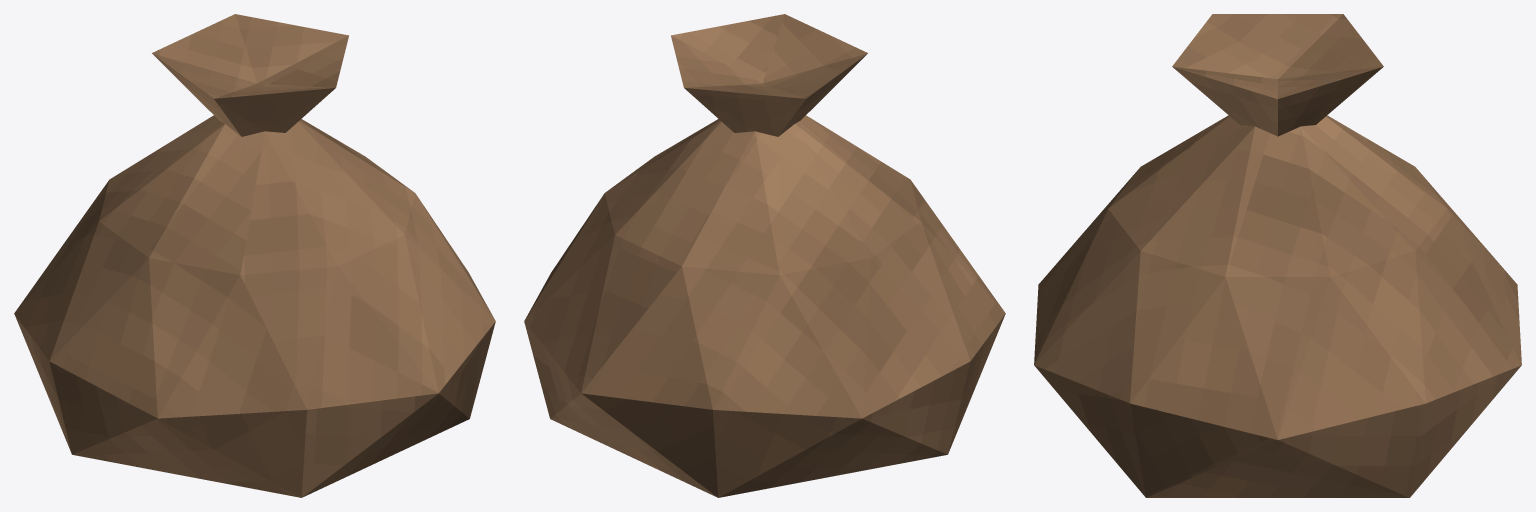
File: sandbag.glb
The picture shows the model from 3 angles, left to right: view 1: azimuth 30°, elevation 25°; view 2: azimuth 150°, elevation 25°; view 3: azimuth 270°, elevation 25°; orthographic projection. The views are drawn at different scales.
Parts seen in each view (by area): view 1: Icosphere; view 2: Icosphere; view 3: Icosphere.
Part boxes in pixels (x1,y1,x2,y2): Icosphere: (14, 14, 495, 497); Icosphere: (524, 14, 1005, 497); Icosphere: (1034, 14, 1521, 497).
Size of the model in its own units: 2.27 by 1.88 by 2.17.
Materials: 1 (1 with a texture image).
